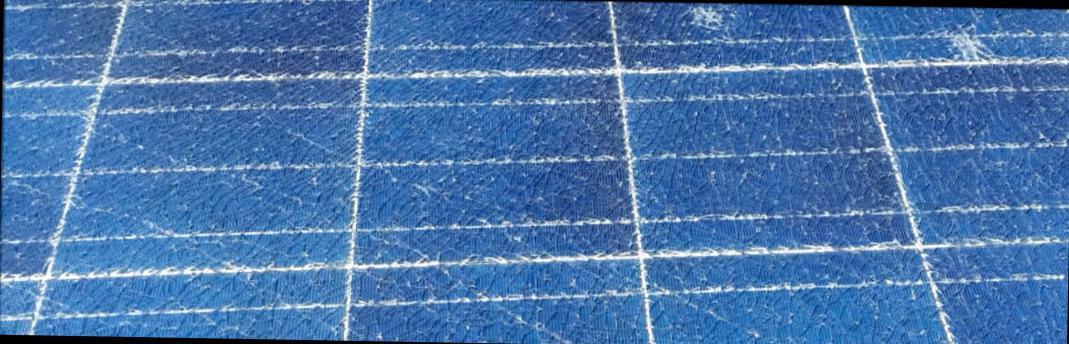Crack: (922, 26, 998, 75), (673, 2, 741, 46)
